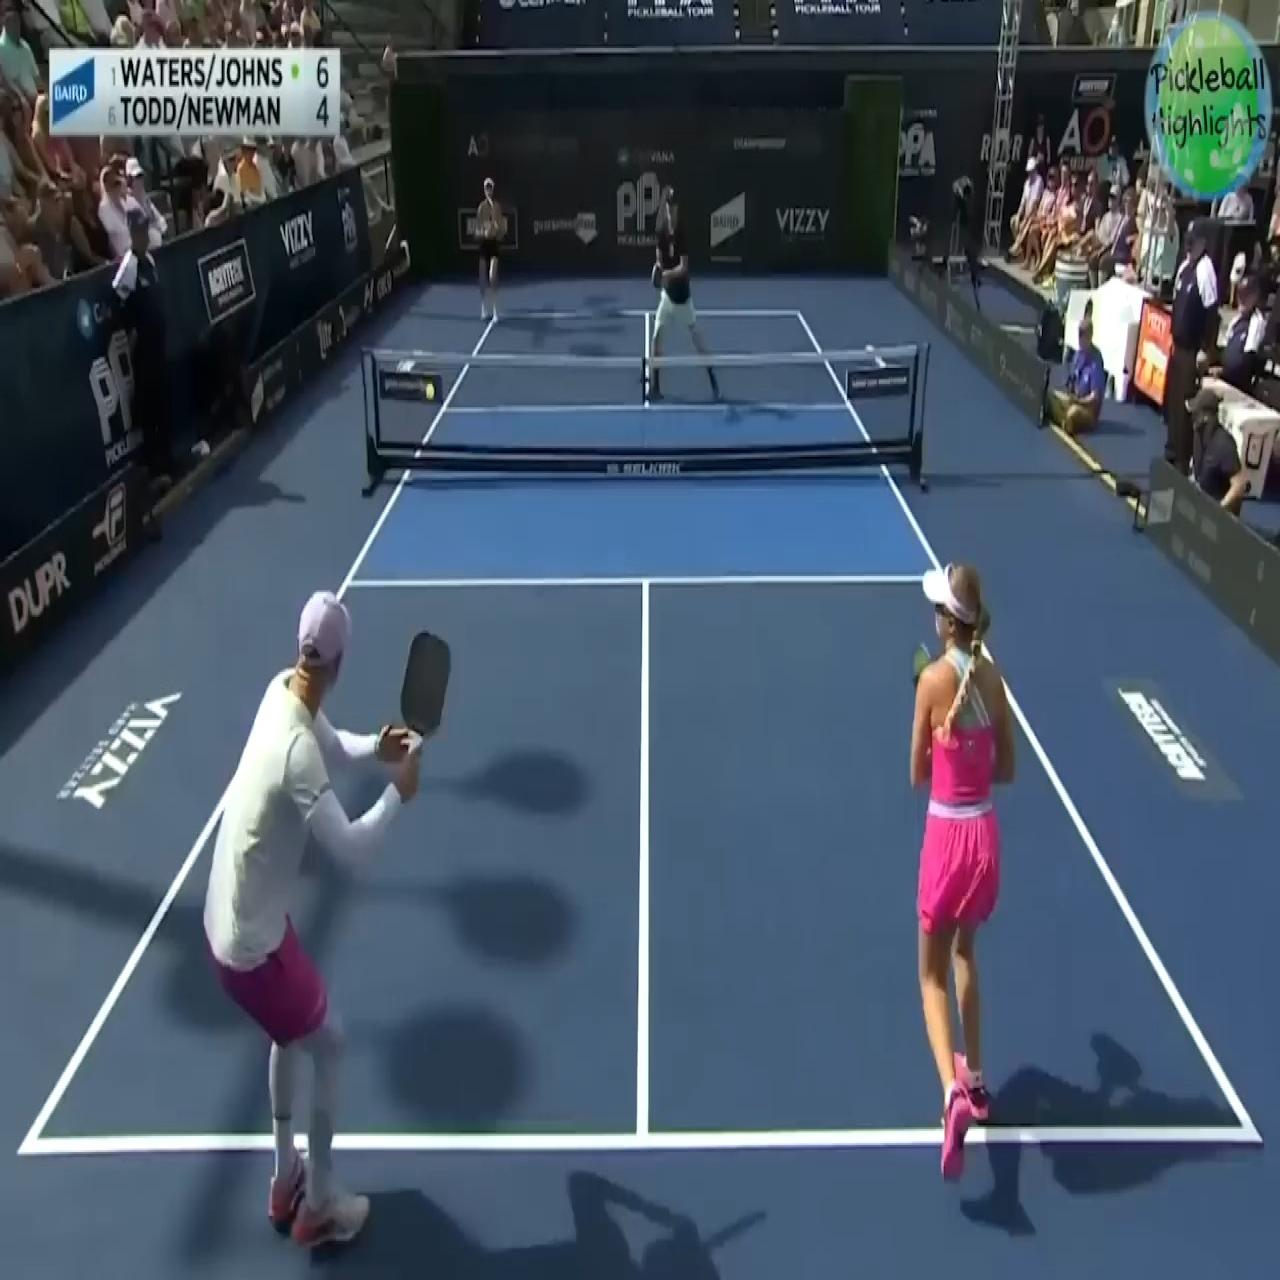Pickleball: (422, 376, 437, 403)
